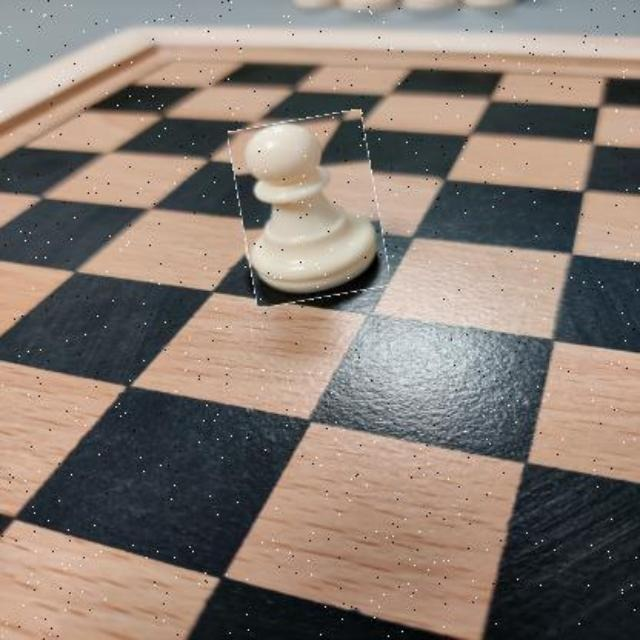white-pawn: (236, 115, 384, 302)
